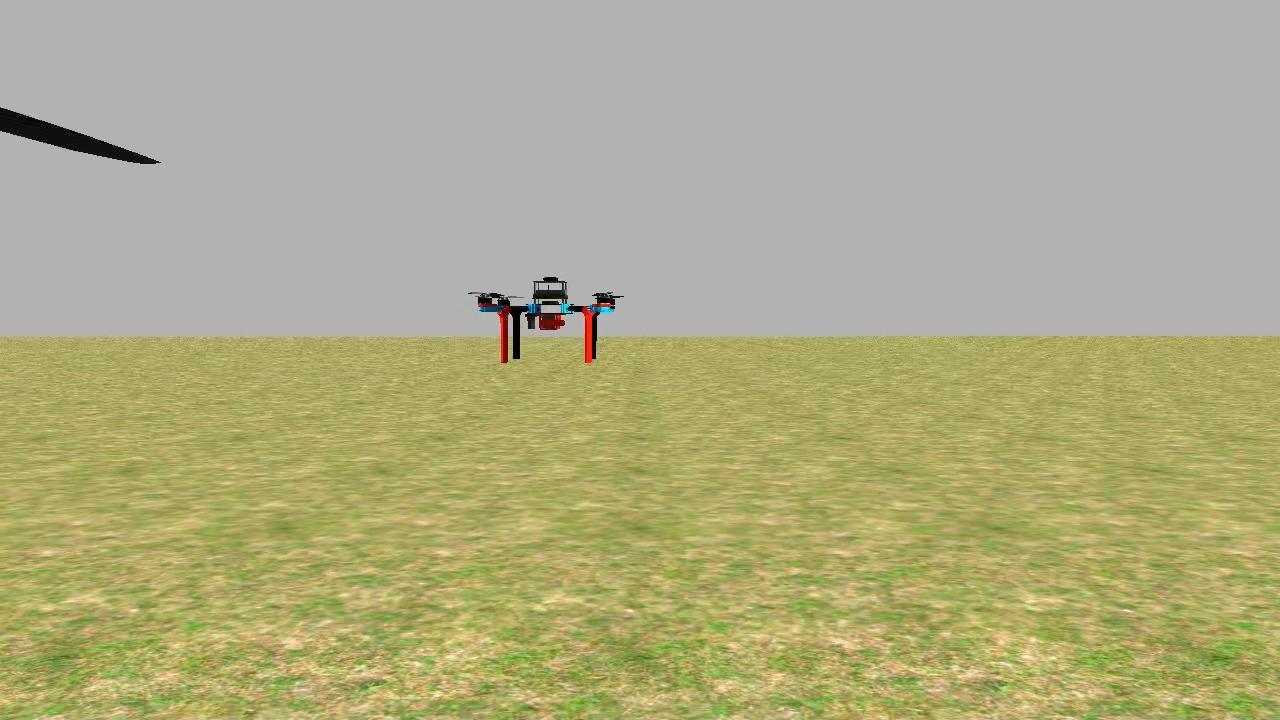UAV: (468, 275, 632, 372)
